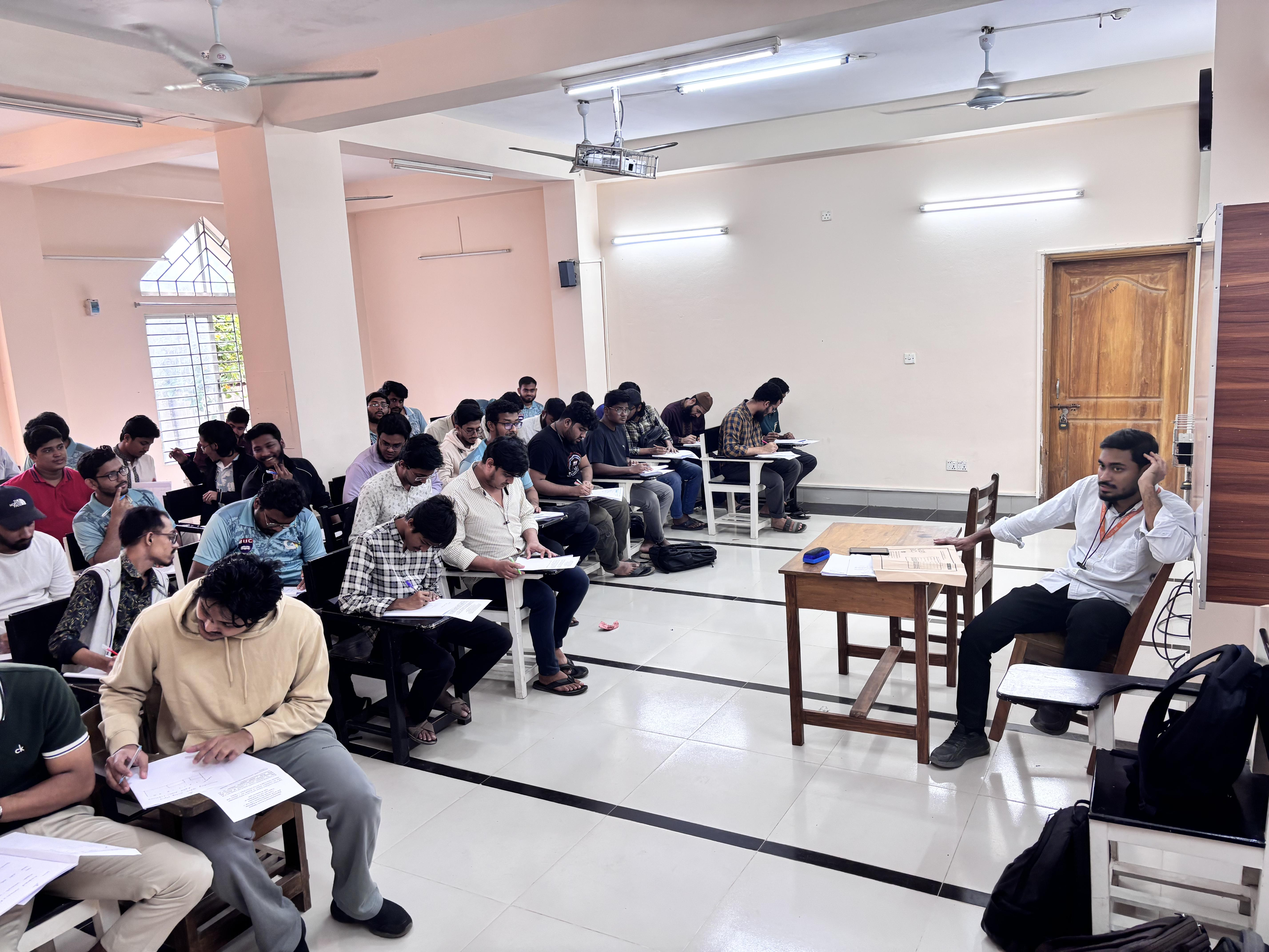copying: (84, 508, 188, 610), (723, 380, 802, 502), (171, 419, 245, 493), (348, 412, 407, 497)
invigilator: (915, 397, 1193, 787)
no_cheating: (335, 493, 503, 701), (445, 434, 568, 612), (535, 396, 608, 571), (206, 470, 323, 574), (0, 472, 74, 606), (367, 437, 465, 506), (663, 381, 724, 478), (77, 443, 150, 520), (599, 378, 640, 509), (21, 424, 78, 492), (109, 407, 166, 473), (448, 404, 484, 470), (485, 396, 531, 444), (363, 389, 392, 430), (518, 372, 544, 408)
side_talking: (114, 554, 345, 827), (240, 422, 301, 472)
